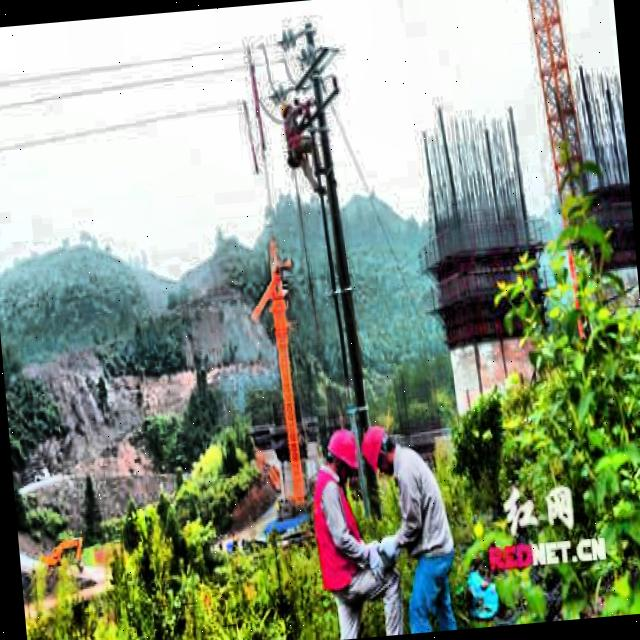helmet: (358, 420, 402, 476), (324, 428, 360, 484)
